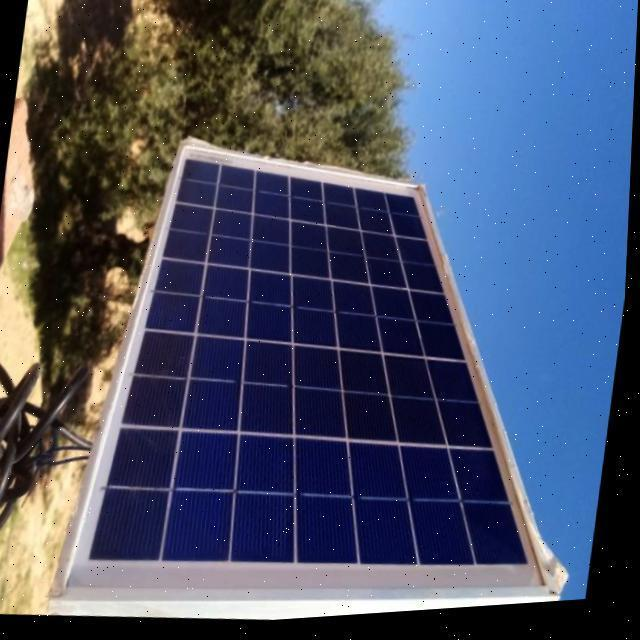Normal Solar Panel: (56, 114, 613, 636)
